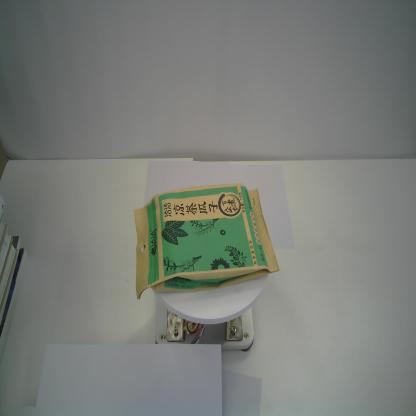Dried Food: (132, 182, 282, 300)
